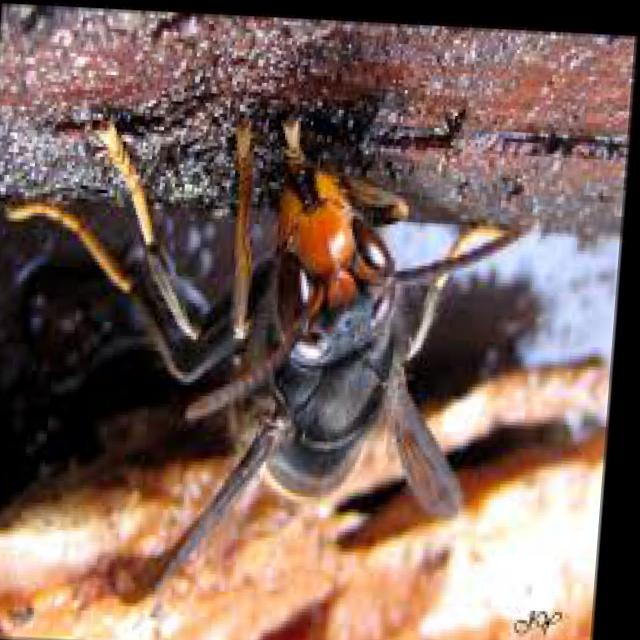Vespa Velutina: (0, 93, 520, 606)
